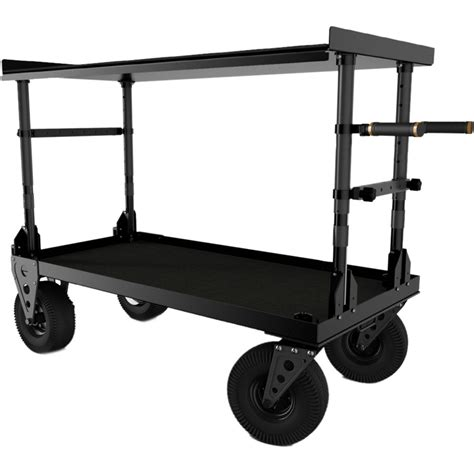Carts: (5, 26, 471, 444)
